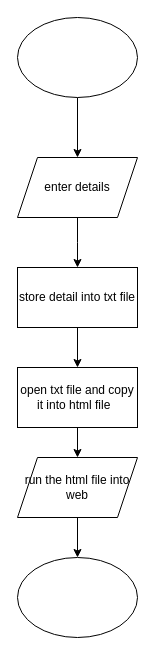
Image size: 155x655. Some labels were removed from this diagram. The shapes that lost their labels are listed below. From the top down, each one's centre as x and y in pixels, then its label:
At (x=77, y=57): "start".
At (x=77, y=597): "end".
